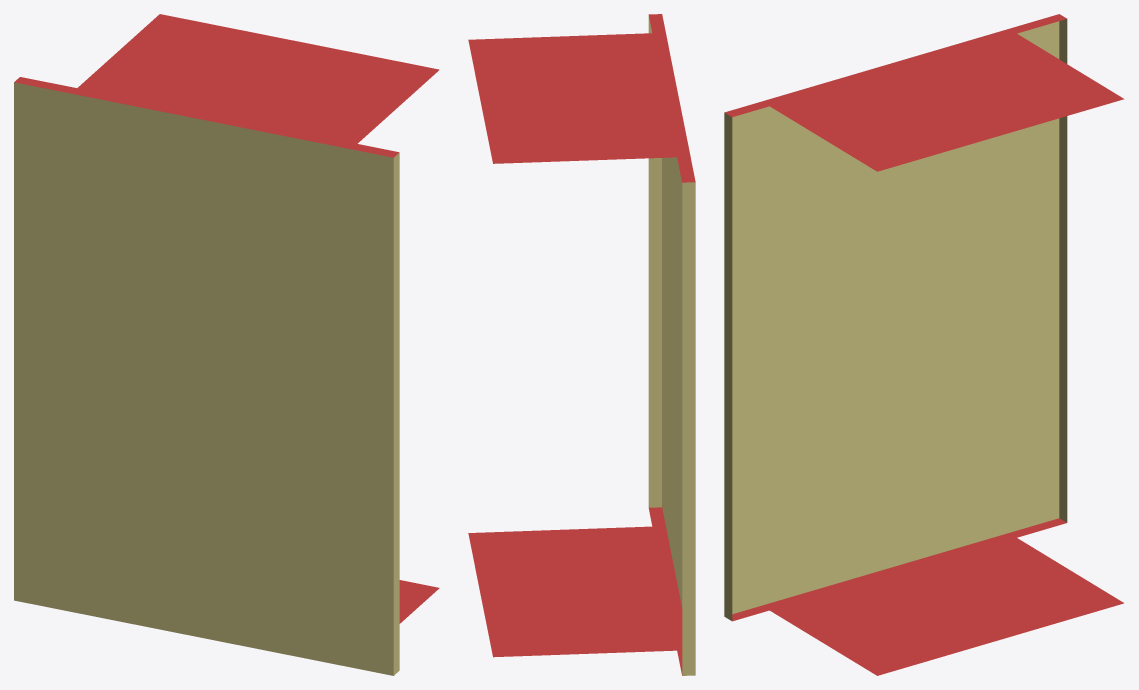
3 views of the same model, side by side, from view 1: azimuth 30°, elevation 25°; view 2: azimuth 150°, elevation 25°; view 3: azimuth 270°, elevation 25° (orthographic). The views are drawn at different scales.
Size of the model in its own units: 5.91 by 6.33 by 8.8.
